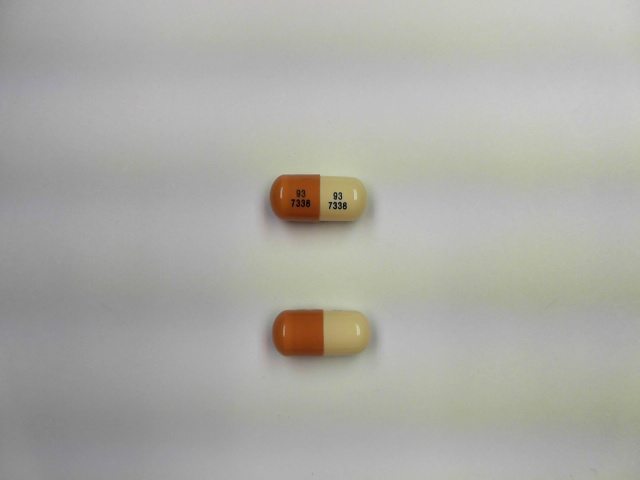capsule: (272, 308, 374, 360), (272, 172, 367, 223)
